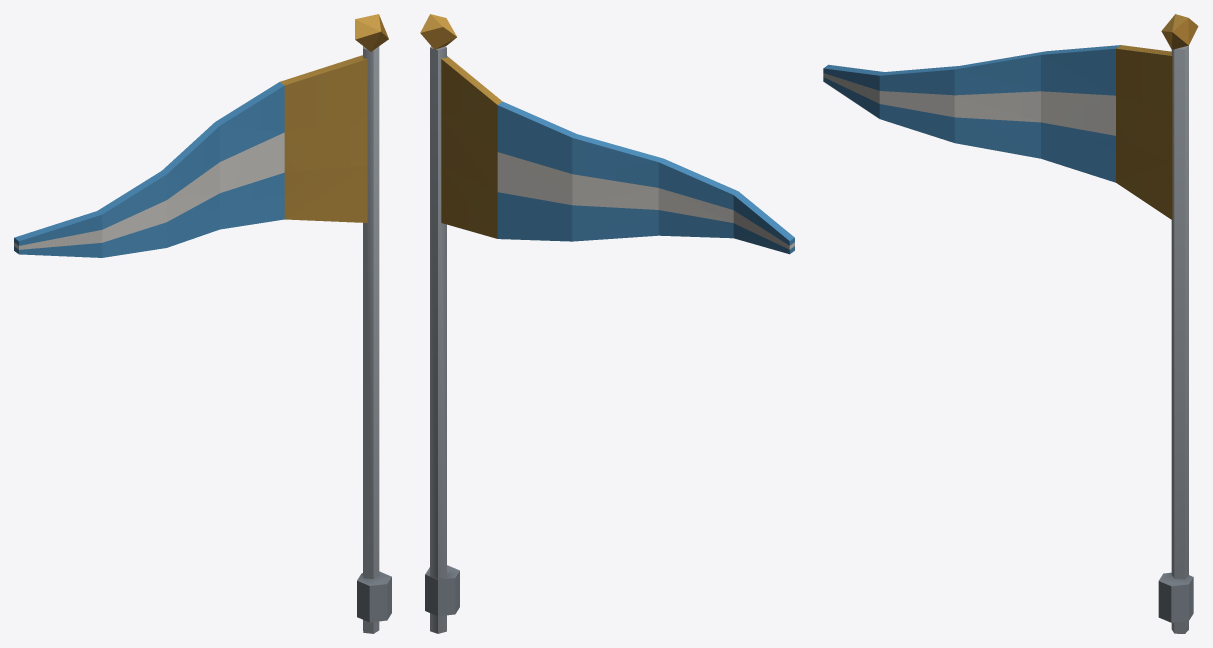
File: gd_submarine_flag.glb
3 views of the same model, side by side, from view 1: azimuth 30°, elevation 25°; view 2: azimuth 150°, elevation 25°; view 3: azimuth 330°, elevation 25° (orthographic).
Visible parts, largest first — view 1: base; view 2: base; view 3: base.
Part boxes in pixels (x1=…): base: x1=14, y1=14, x2=391, y2=633; base: x1=420, y1=14, x2=794, y2=633; base: x1=823, y1=14, x2=1198, y2=633.
Bounding box in the file's own units: 0.2117 × 0.3368 × 0.0316.
